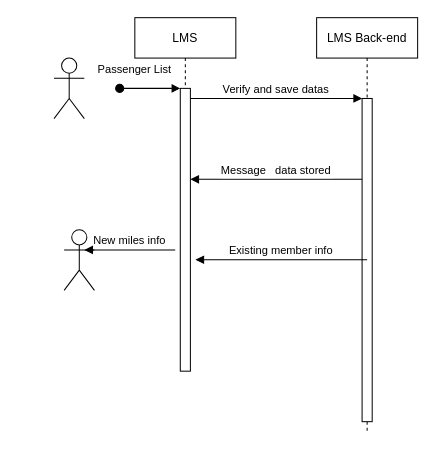
Image size: 435x449. Some labels were removed from this diagram. Here are the shapes that lost their labels. From the top down, the centre of each, then its label:
At point 68,88: "Air Plane Company".
At point 78,259: "Member".
